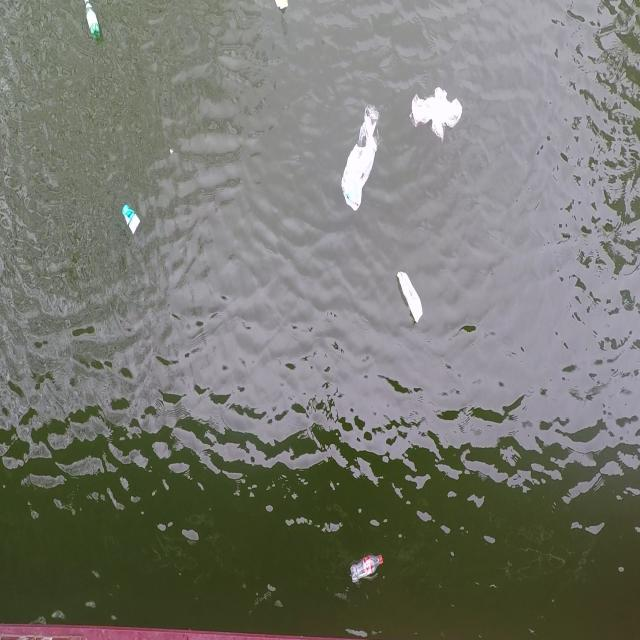Bouteille plastique: (348, 551, 386, 587), (81, 0, 105, 44)
Sac plastique: (339, 98, 385, 216), (409, 84, 465, 141), (396, 267, 426, 328)
